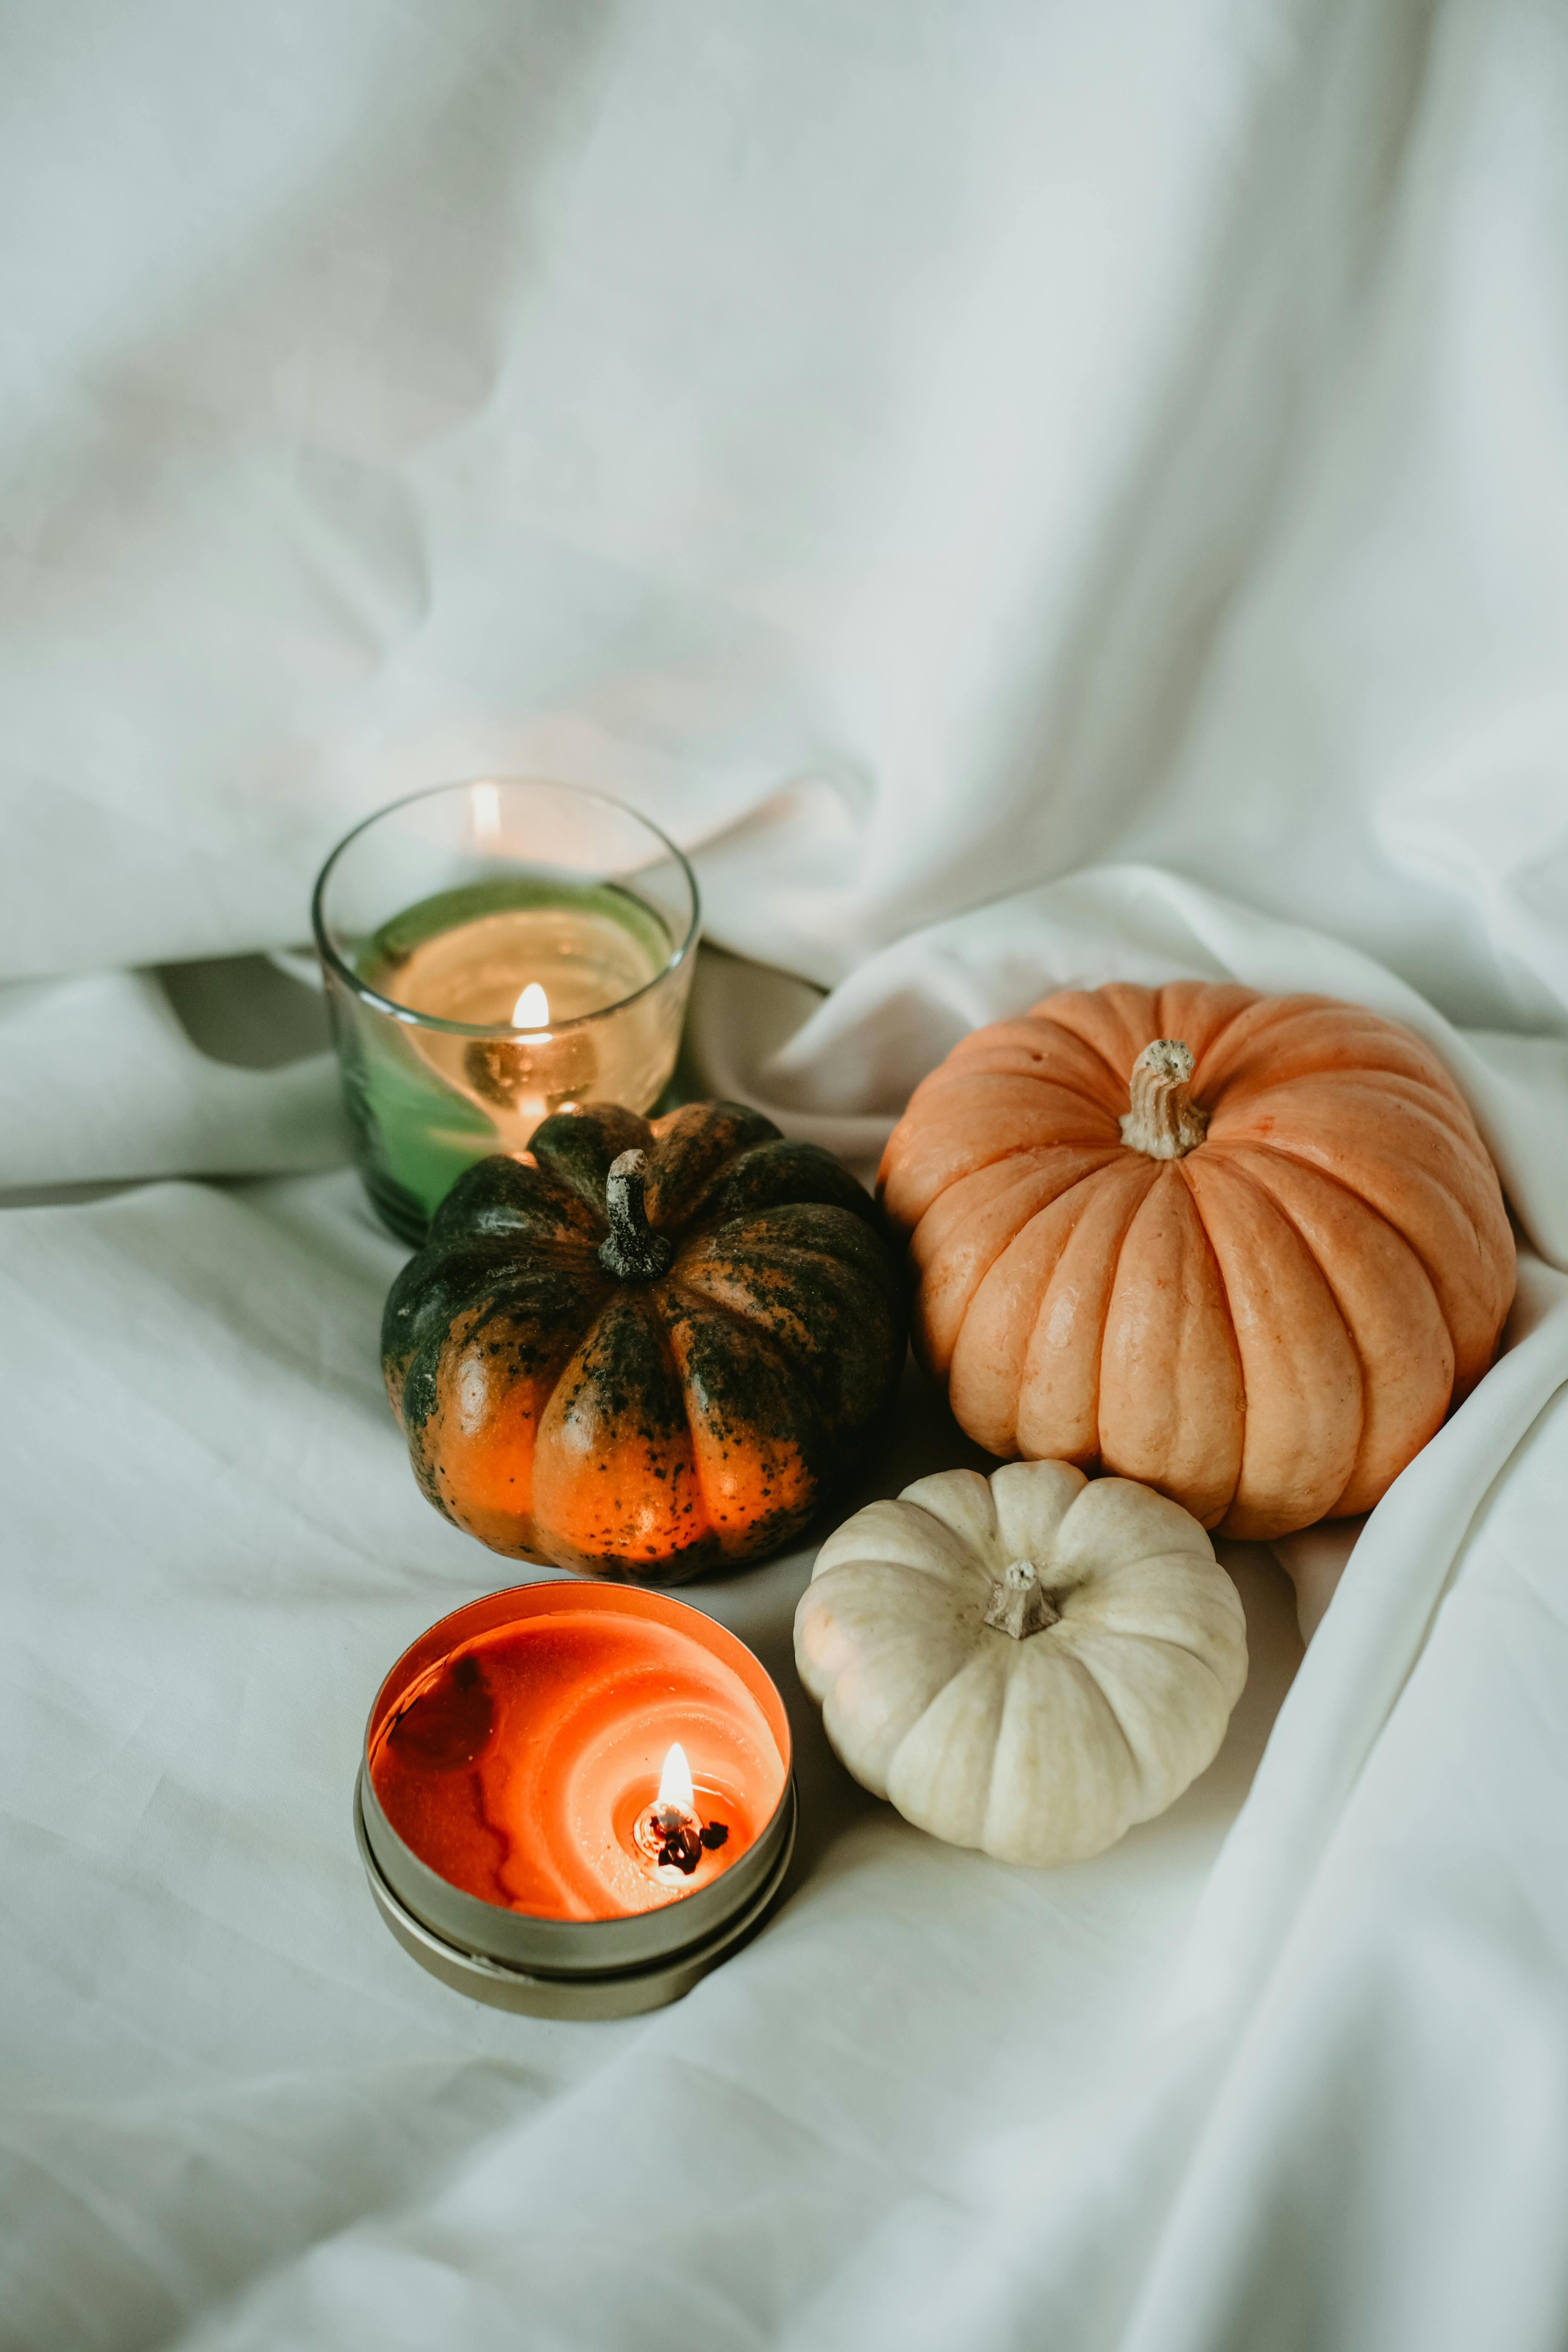Fire: (633, 1734, 723, 1820), (490, 973, 574, 1036)
